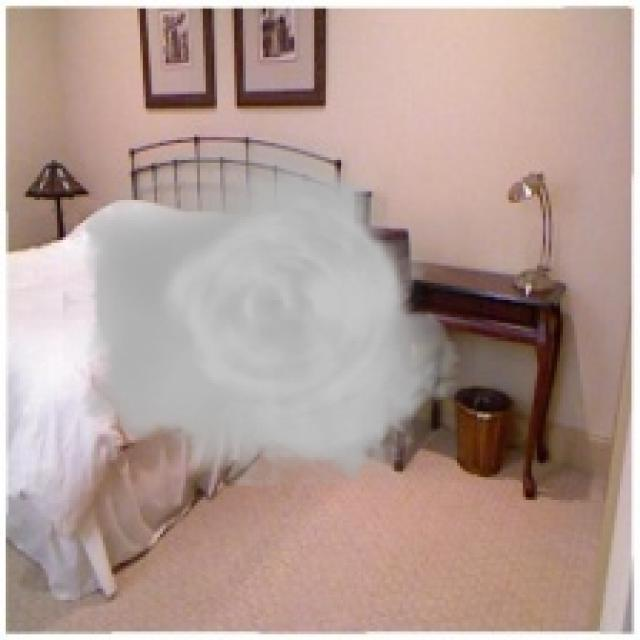Smoke: (62, 137, 472, 486)
